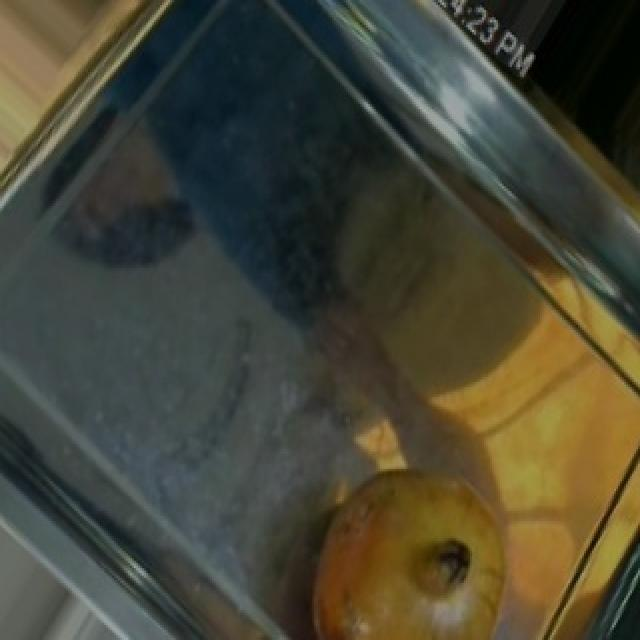fruit: (284, 431, 538, 640)
